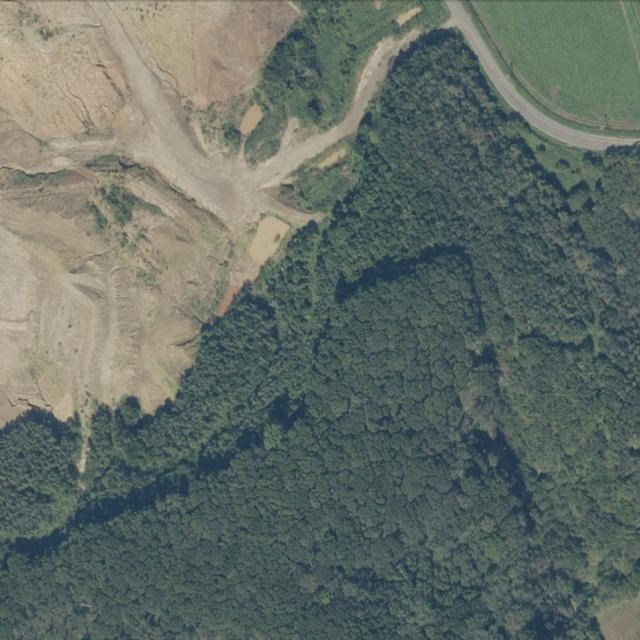landslide: (0, 1, 408, 427)
